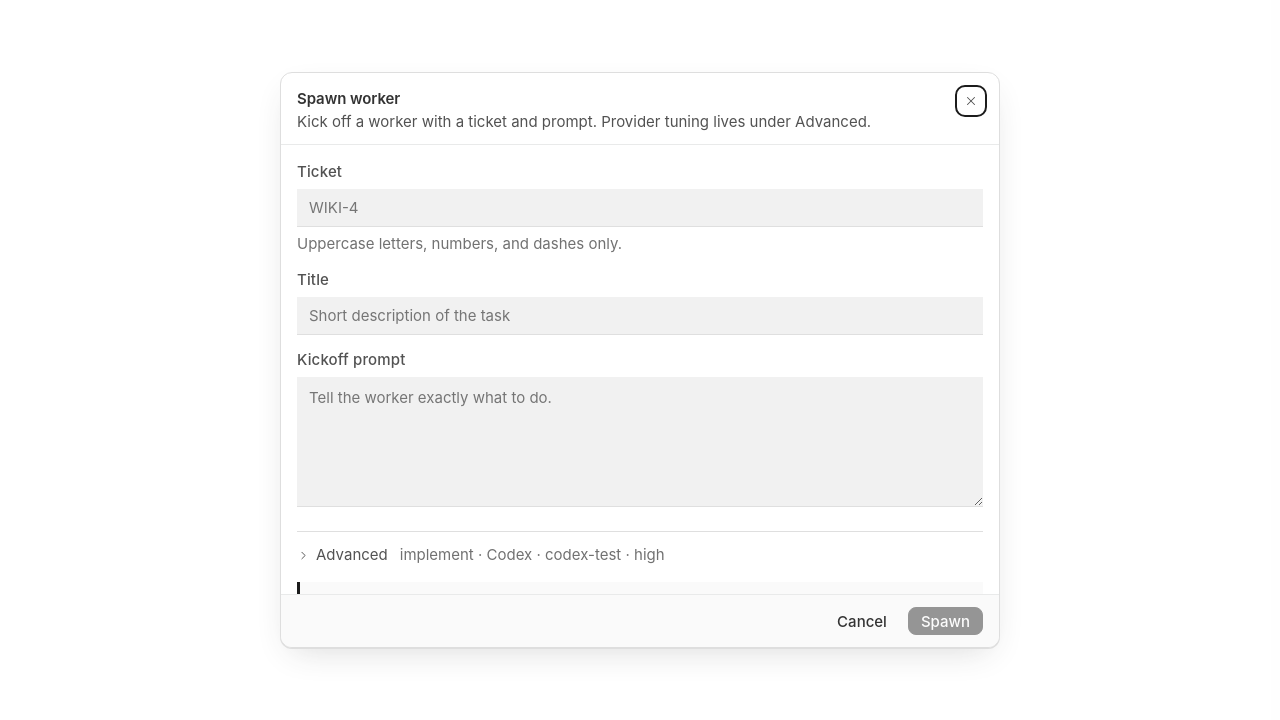
Test: spawn stays disabled while the enabled preview is loading
Type "WIKI-180" into the field with placeholder "WIKI-4" at (640, 208), box x1=297 y1=189 x2=983 y2=227
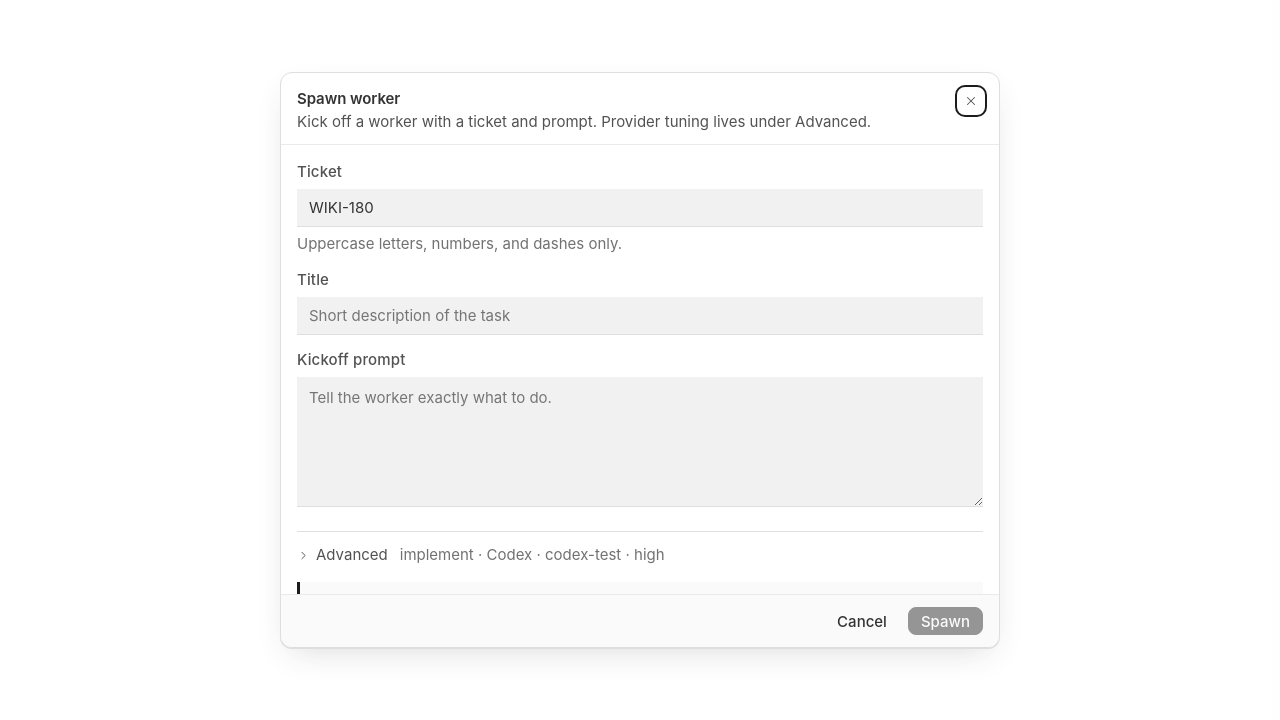
Type "run tests" into the text box with placeholder "Tell the worker exactly what to do." at (640, 442), box x1=297 y1=377 x2=983 y2=507
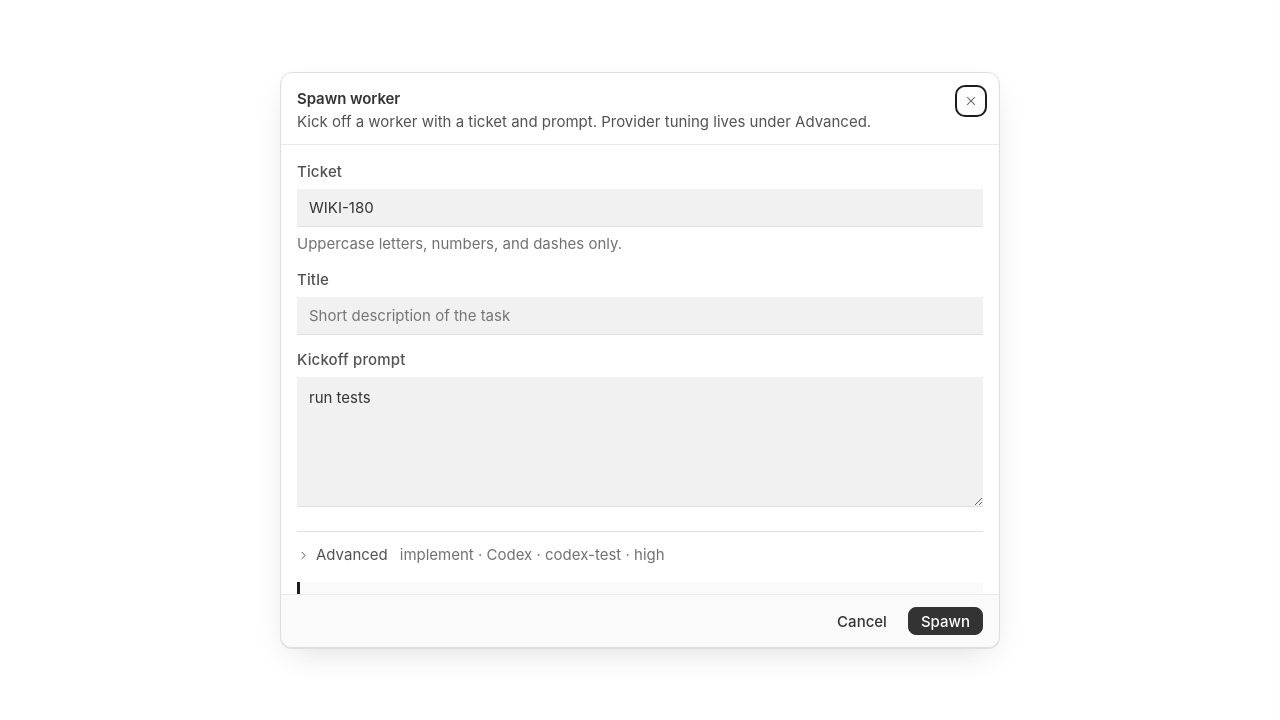
Click the button "Advanced implement · Codex · codex-test · high" at (481, 555), box x1=297 y1=540 x2=665 y2=570
(page scrolled)
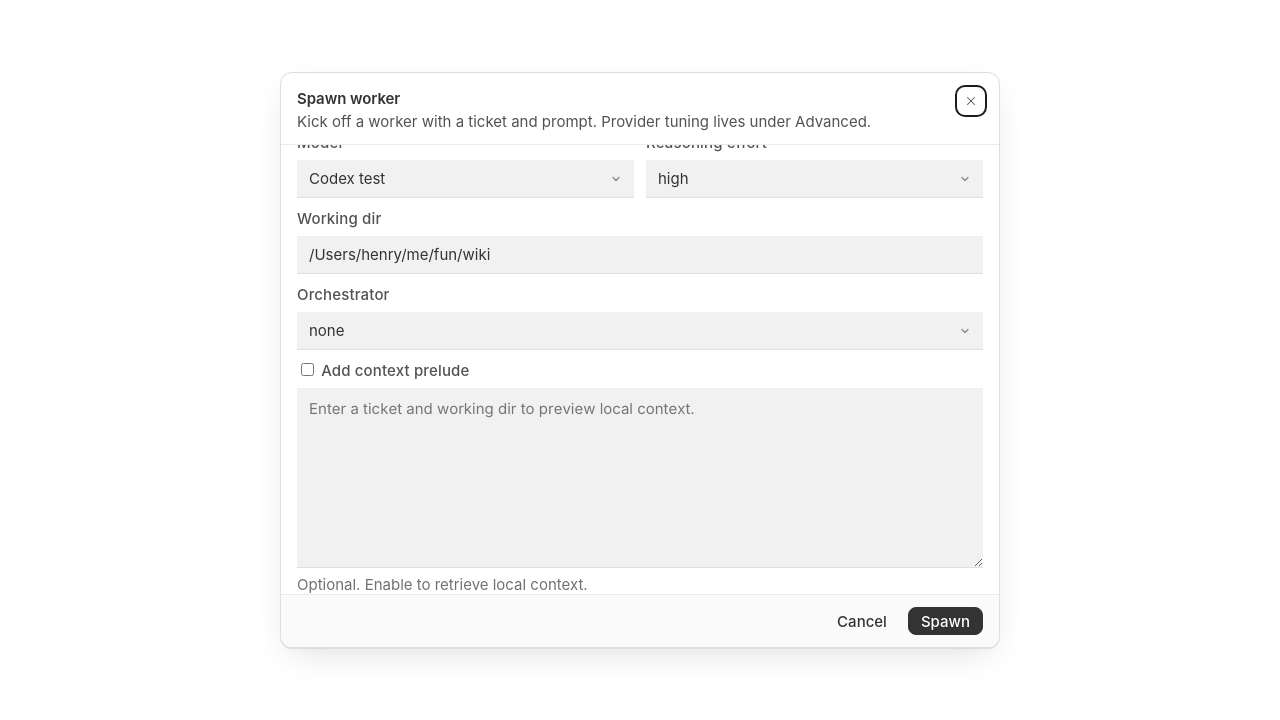
Click the checkbox at (308, 370), box x1=301 y1=363 x2=314 y2=376
Wait 250 ms
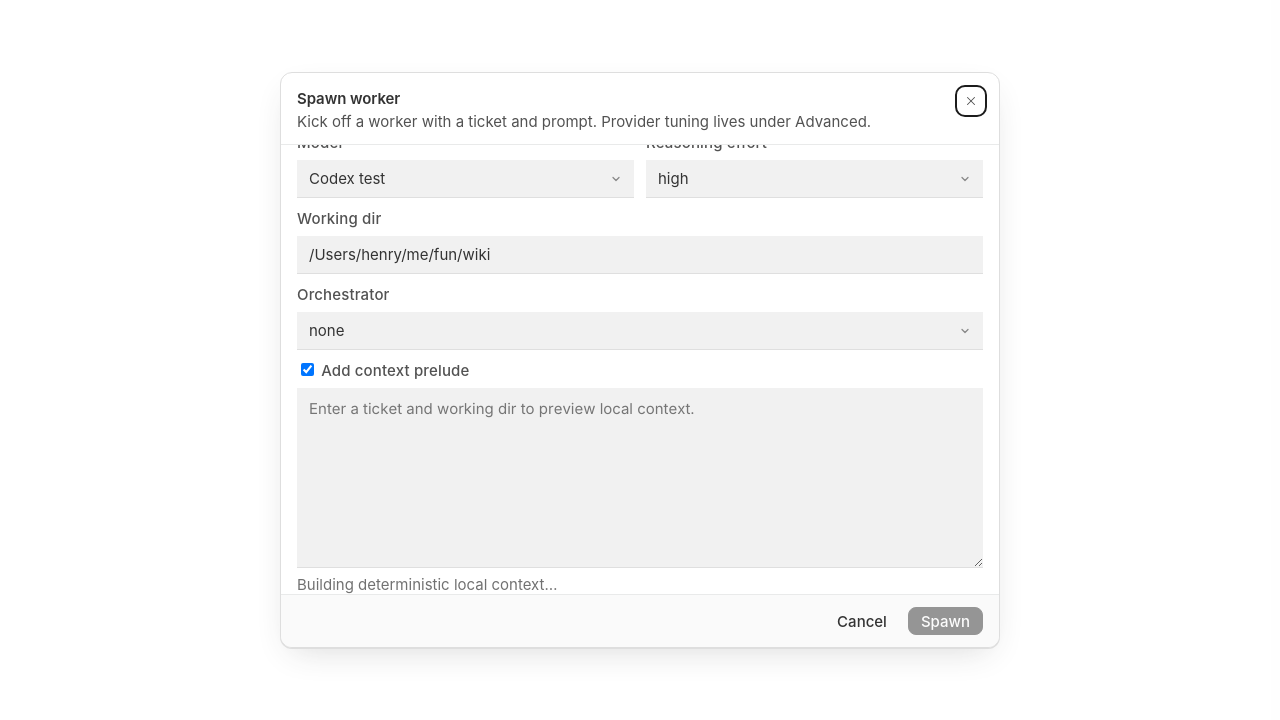
Check: the button "Spawn" is disabled, box x1=908 y1=607 x2=983 y2=635
